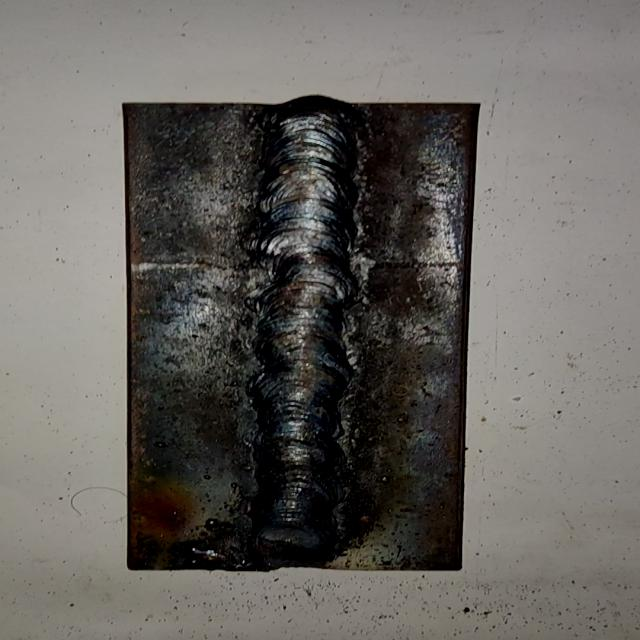Good Weld: (254, 104, 354, 558)
